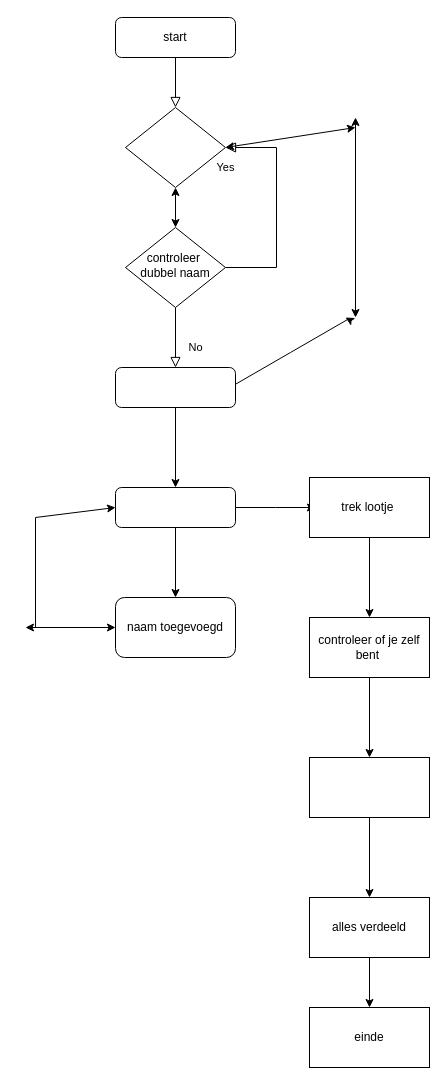
Some shapes in this 447 by 1085 pixel diagram are drawn without their labels. Each missing label, with the centre of its shape:
"3 namen" belongs at pixel 175 387.
"naam invoer" belongs at pixel 175 147.
"print naam en bijbehoren de lootje" belongs at pixel 369 787.
"wil je loten beginen of nog een naam toevoegen" belongs at pixel 175 507.
